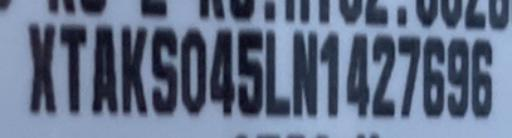letter: (116, 24, 150, 116), (25, 20, 57, 112), (148, 25, 180, 117), (178, 23, 208, 115), (57, 22, 87, 112), (90, 23, 120, 113), (209, 24, 237, 118), (291, 27, 319, 119), (235, 27, 263, 119), (263, 27, 291, 117), (343, 31, 371, 119), (445, 34, 471, 121), (469, 36, 495, 123), (396, 33, 422, 119), (420, 33, 446, 119), (370, 33, 396, 117), (318, 31, 342, 119)
